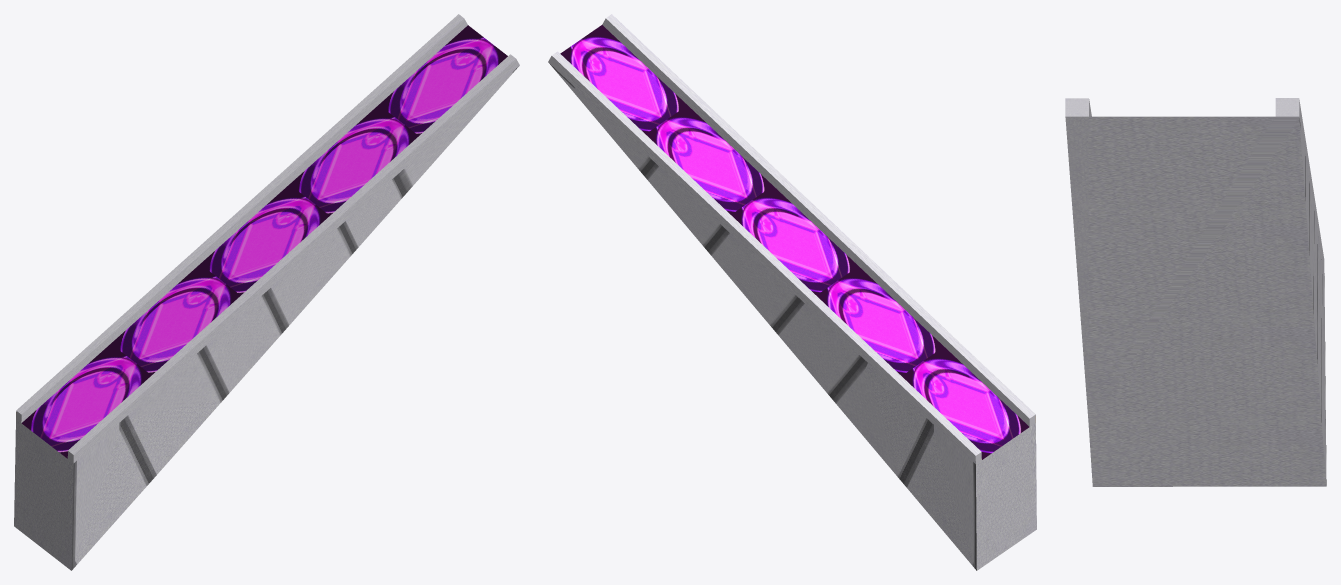
File: BomberMan_Stage_stairs.fbx
3 renders of one model, left to right at view 1: azimuth 30°, elevation 25°; view 2: azimuth 150°, elevation 25°; view 3: azimuth 270°, elevation 25°, orthographic. The views are drawn at different scales.
Parts seen in each view (by area): view 1: pCube12; view 2: pCube12; view 3: pCube12.
Boxes of the visible parts, <box> form: pCube12: <box>14,14,519,570</box>; pCube12: <box>548,14,1036,570</box>; pCube12: <box>1065,98,1326,486</box>.
Bounding box in the file's own units: 12.06 × 10.7 × 3.12.
Materials: 1 (1 with a texture image).
